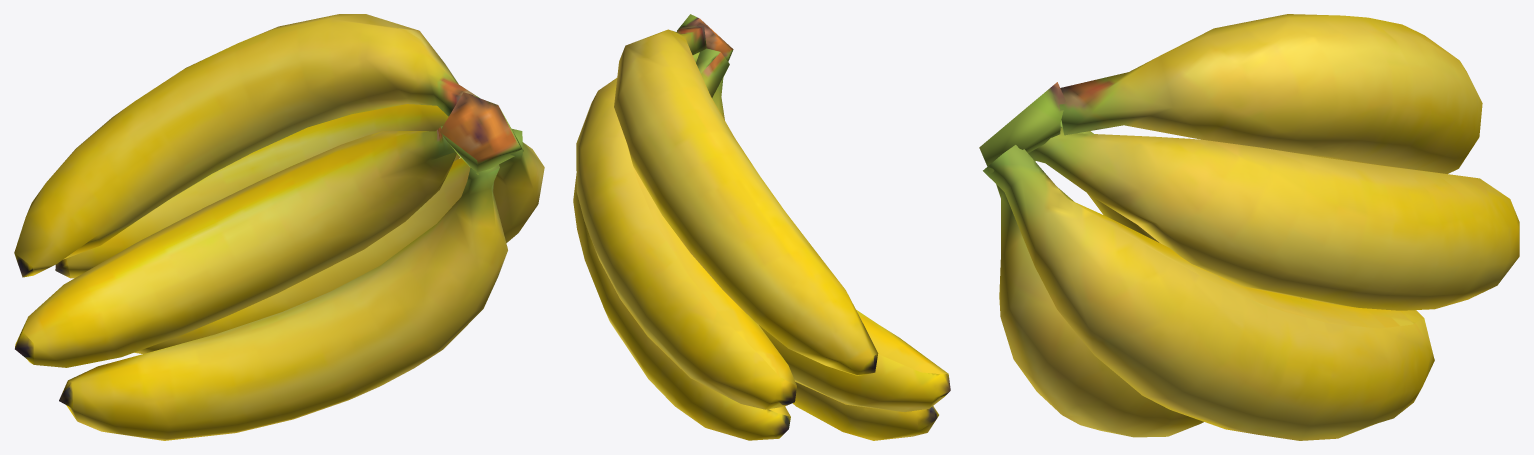
File: Bananas.obj
The picture shows the model from 3 angles, left to right: view 1: azimuth 30°, elevation 25°; view 2: azimuth 150°, elevation 25°; view 3: azimuth 270°, elevation 25°; orthographic projection. The views are drawn at different scales.
Visible parts, largest first — view 1: Bananas(Clone)_Quality_11.4; view 2: Bananas(Clone)_Quality_11.4; view 3: Bananas(Clone)_Quality_11.4.
Boxes of the visible parts, x1,y1,x2,y2 form: Bananas(Clone)_Quality_11.4: (14,14,544,440); Bananas(Clone)_Quality_11.4: (573,14,950,440); Bananas(Clone)_Quality_11.4: (979,14,1519,440).
Size of the model in its own units: 2.3 by 1.75 by 1.76.
